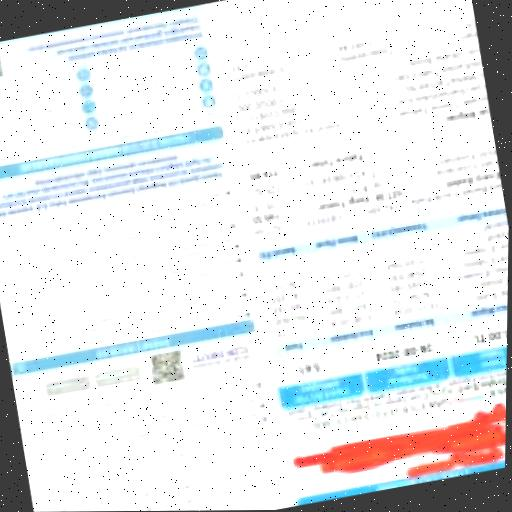electricity-bill: (0, 0, 509, 512)
